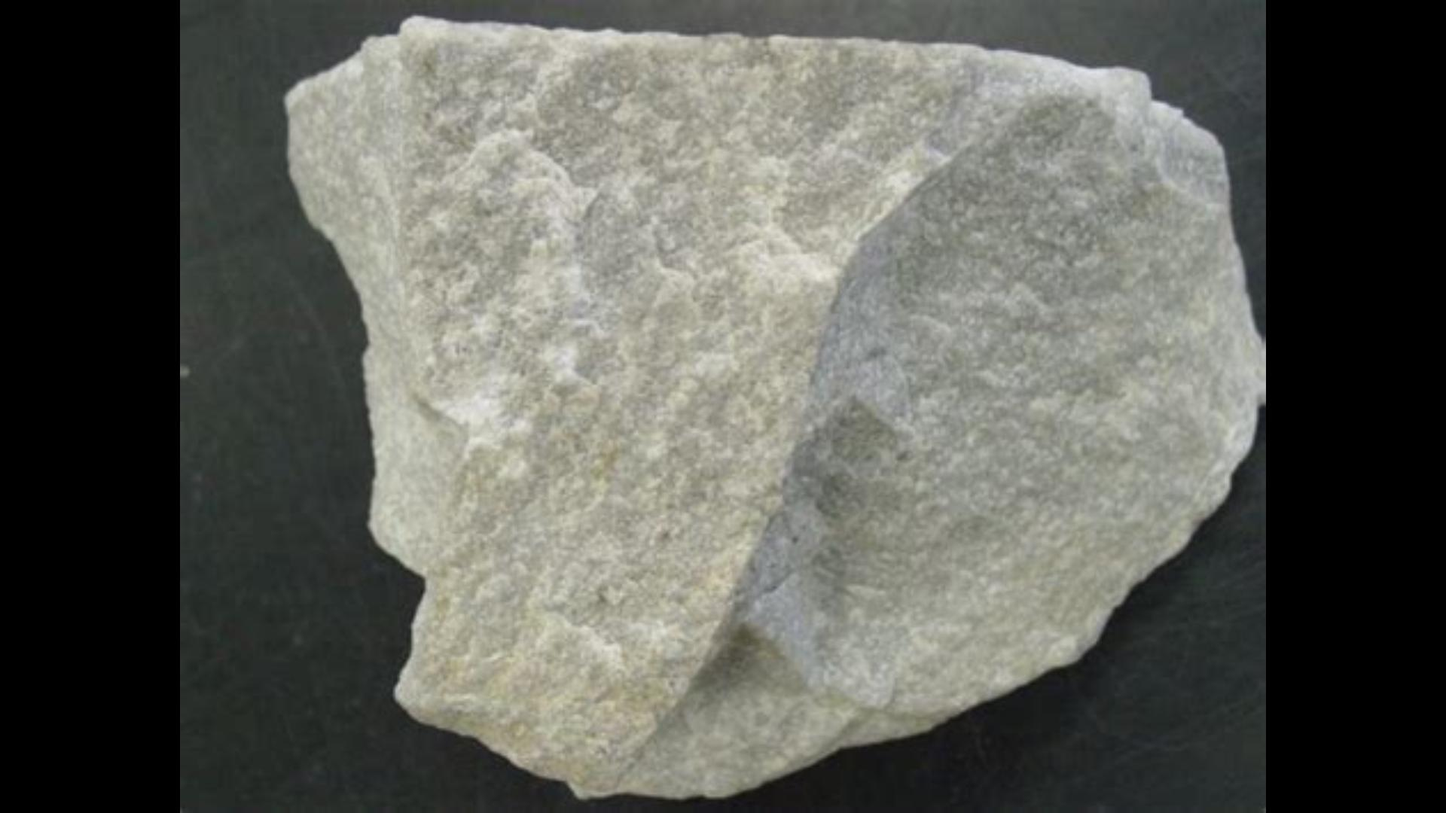rock: (288, 18, 1245, 792)
